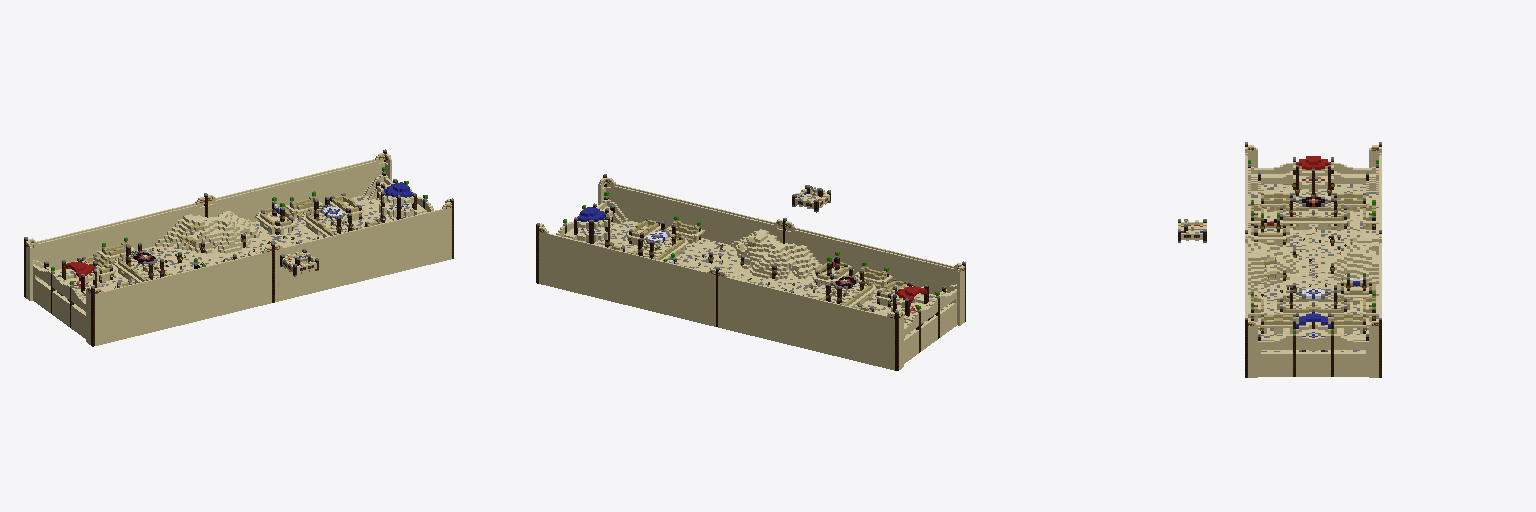
3 views of the same model, side by side, from view 1: azimuth 30°, elevation 25°; view 2: azimuth 150°, elevation 25°; view 3: azimuth 270°, elevation 25° (orthographic).
Bounding box in the file's own units: 131 × 23.5 × 64.
26 materials, 12 textured.